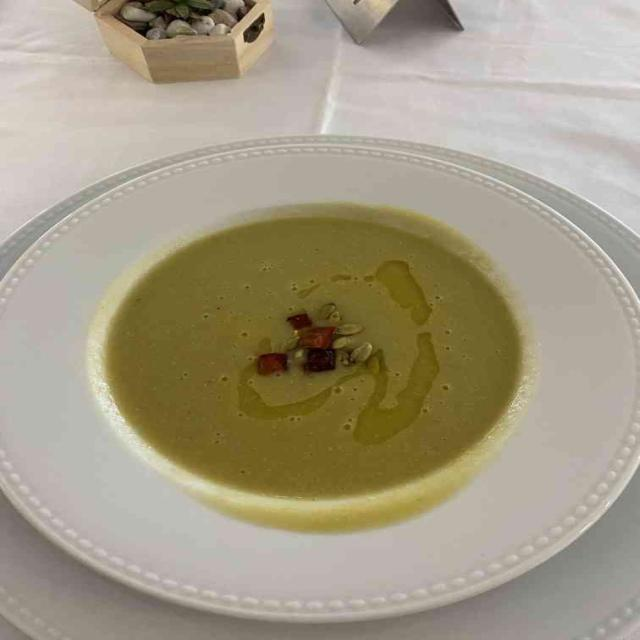plate: (0, 143, 639, 621)
soup: (105, 215, 522, 500)
